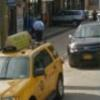cars: (0, 42, 64, 100)
